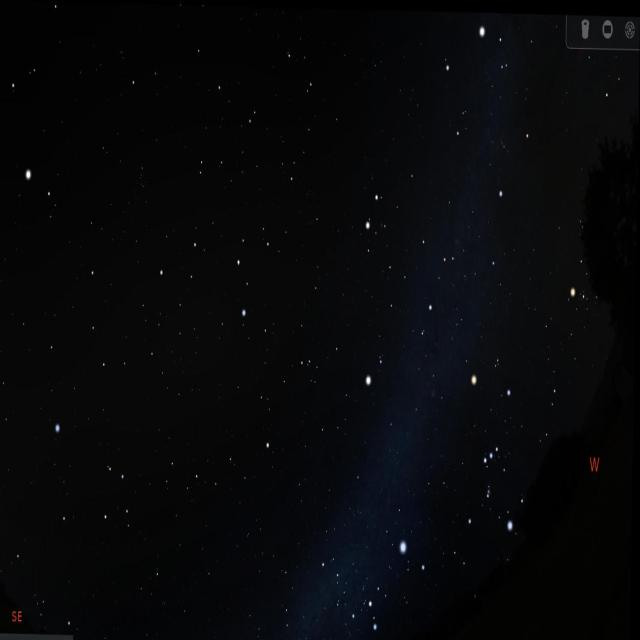bootes: (0, 0, 65, 195)
canis_major: (368, 523, 435, 636)
canis_minor: (359, 344, 395, 402)
gemini: (353, 180, 456, 332)
leo: (157, 222, 291, 348)
orion: (459, 363, 523, 537)
taurus: (567, 228, 631, 340)
